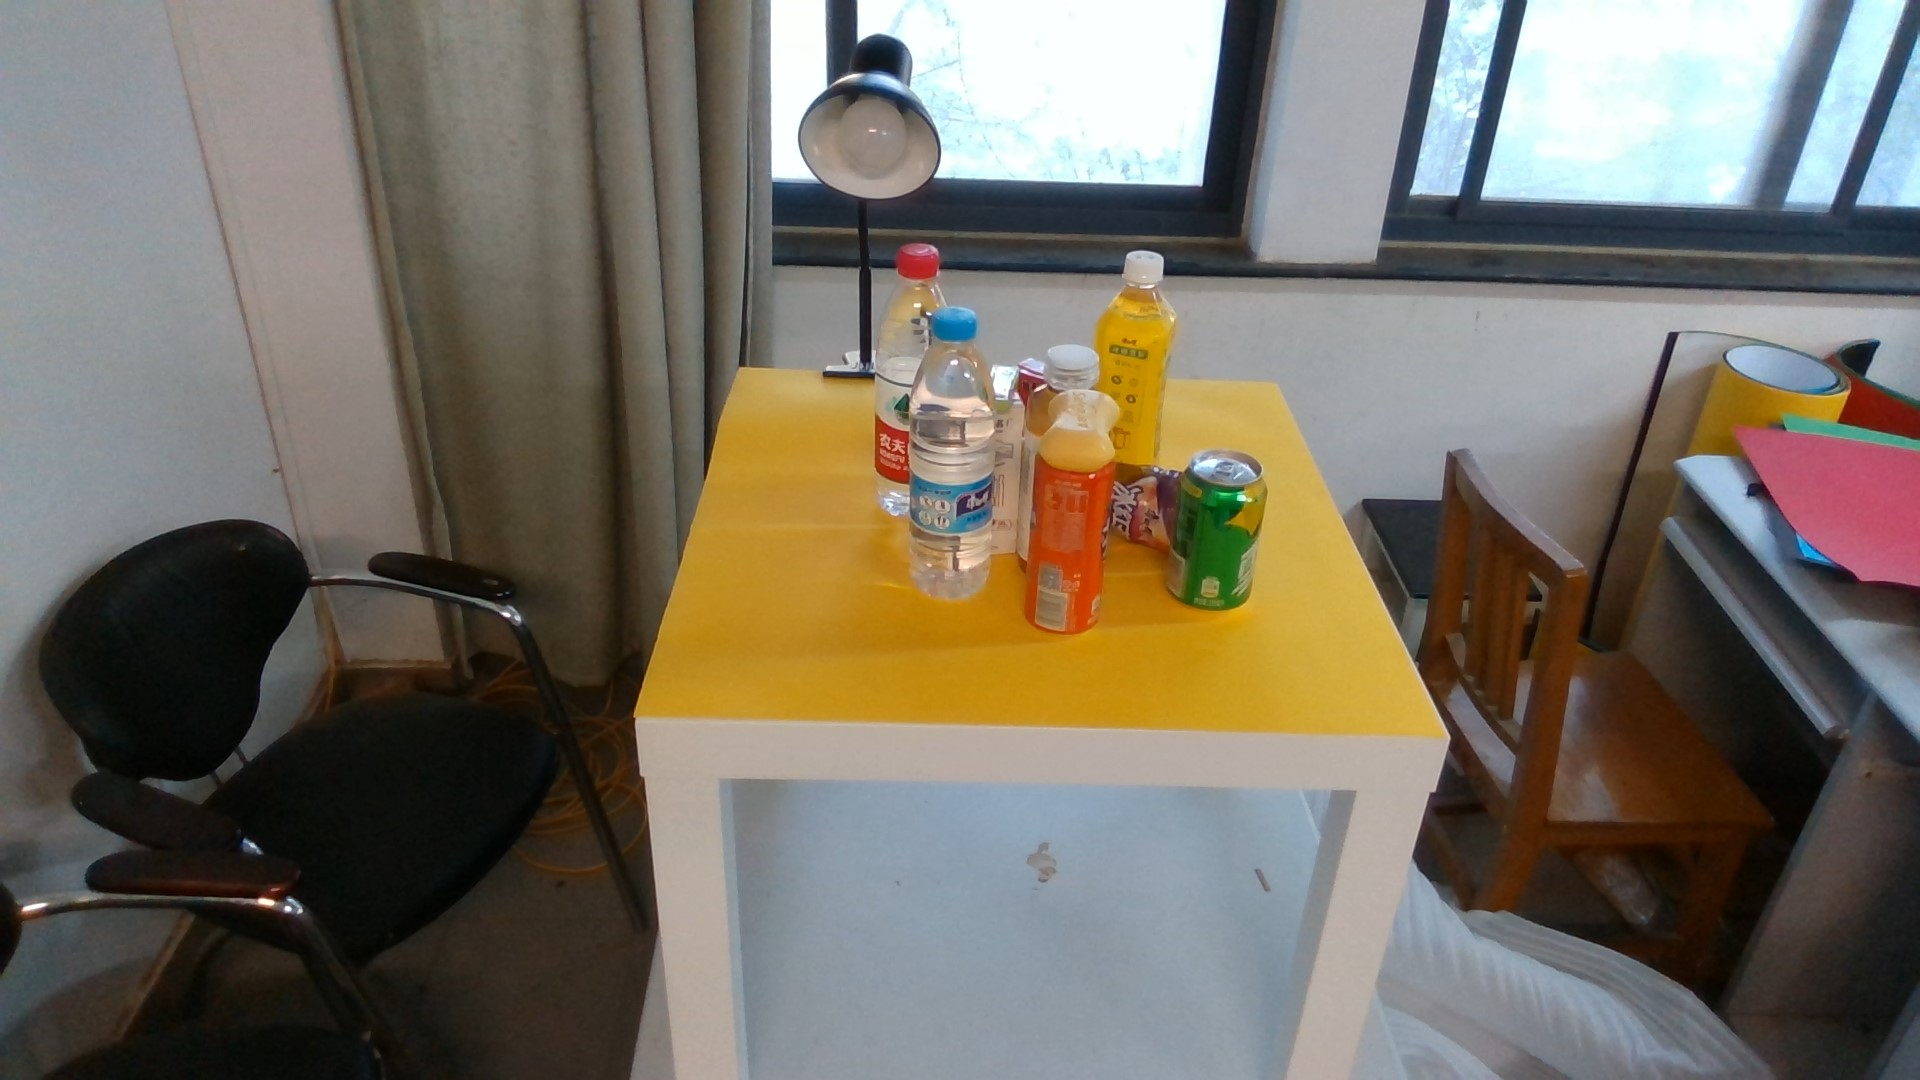BB003: (1025, 473, 1112, 638), (1040, 386, 1122, 473)
BB010: (996, 389, 1023, 555)
BB012: (1011, 356, 1044, 400)
ZC001: (1168, 450, 1269, 611)
ZC009: (1113, 464, 1168, 550)
ZC011: (1120, 251, 1180, 464)
ZC012: (1040, 339, 1098, 392)
ZC014: (873, 241, 913, 517)
ZC019: (909, 307, 993, 597)
